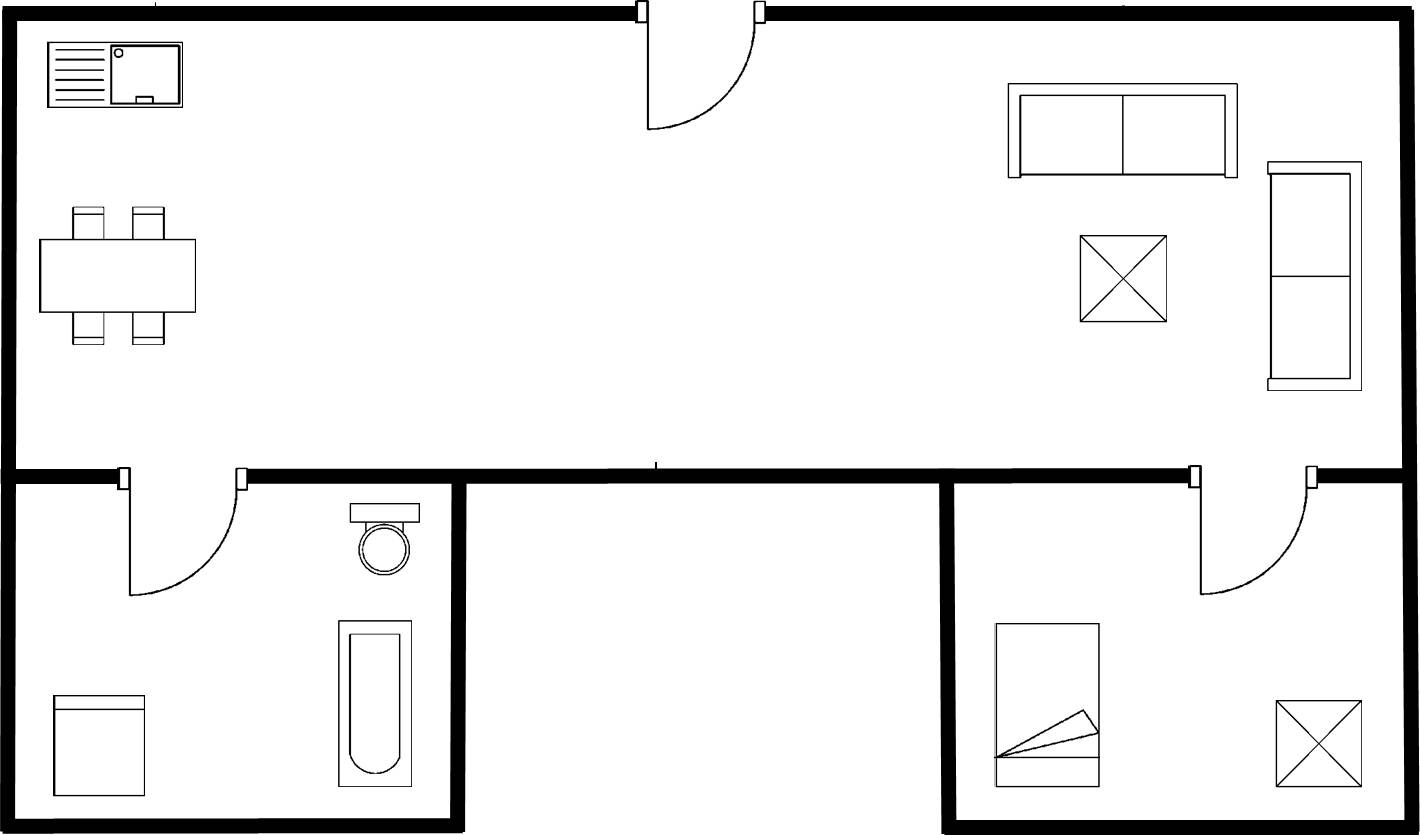bed: (989, 617, 1106, 794)
coffee_table: (1072, 230, 1173, 332), (1270, 695, 1368, 793)
dining_table: (33, 201, 204, 349)
large_sink: (343, 497, 428, 580)
large_sofa: (1002, 78, 1245, 186), (1261, 155, 1368, 398)
sink: (42, 36, 188, 115)
small_sofa: (48, 689, 151, 803)
tub: (332, 615, 418, 793)
